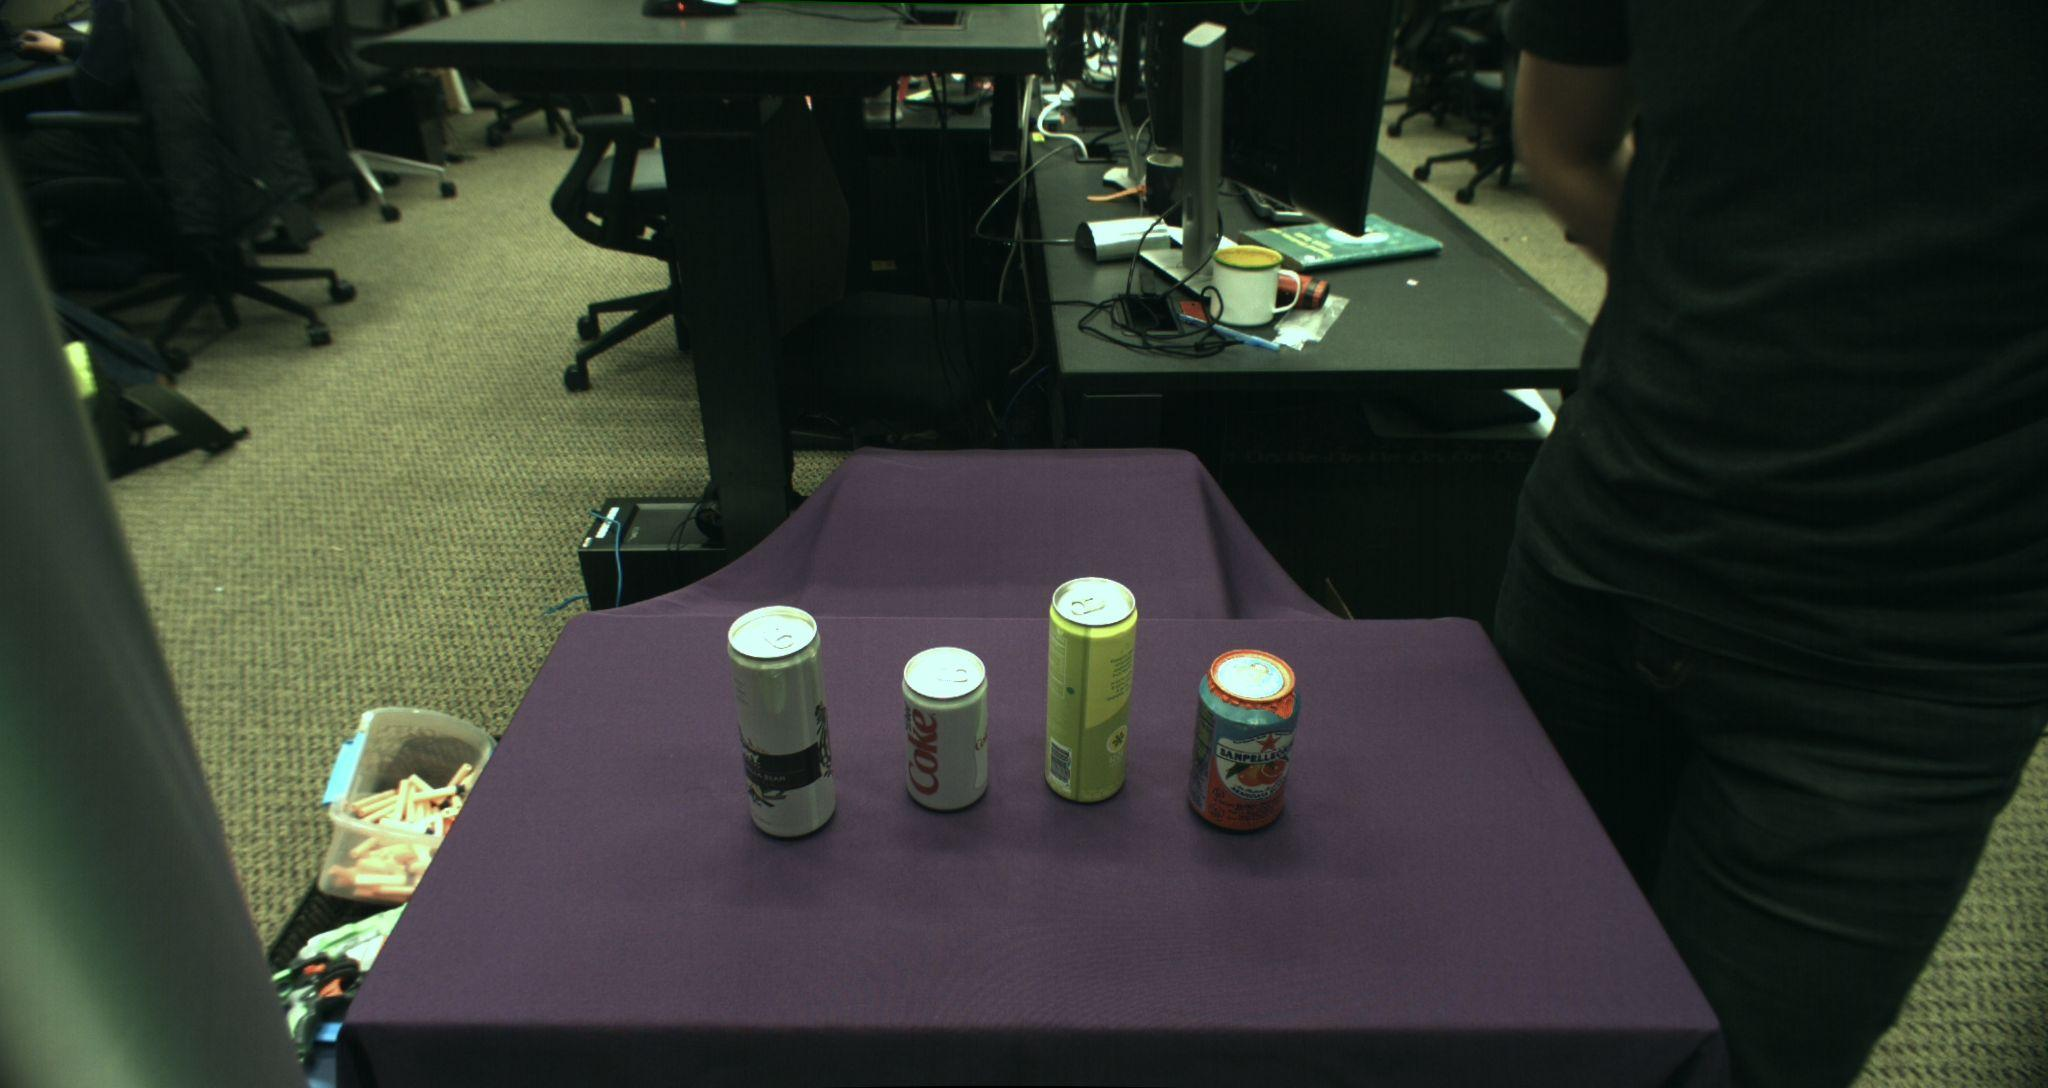can_diet_coke_small: (899, 645, 990, 812)
can_dry_sparkling_vanilla_bean: (727, 606, 838, 837)
can_izze_fusions_lemon_lime: (1043, 577, 1139, 803)
can_sanpellegrino_blood_orange: (1187, 648, 1302, 832)
